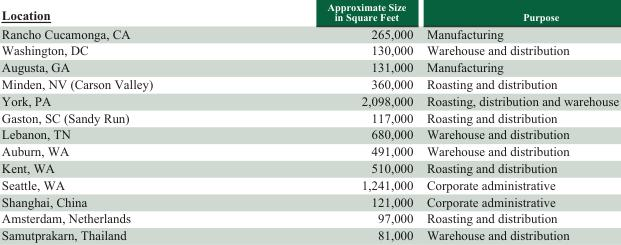table: (0, 0, 618, 242)
table column: (0, 0, 239, 242), (419, 0, 618, 242), (239, 0, 419, 242)
table column header: (0, 0, 618, 24)
table row: (0, 0, 618, 24), (0, 24, 618, 41), (0, 41, 618, 58), (0, 58, 618, 75), (0, 75, 618, 92), (0, 108, 618, 125), (0, 125, 618, 142), (0, 142, 618, 159), (0, 159, 618, 176), (0, 192, 618, 209), (0, 209, 618, 226), (0, 92, 618, 108), (0, 176, 618, 192), (0, 226, 618, 242)
